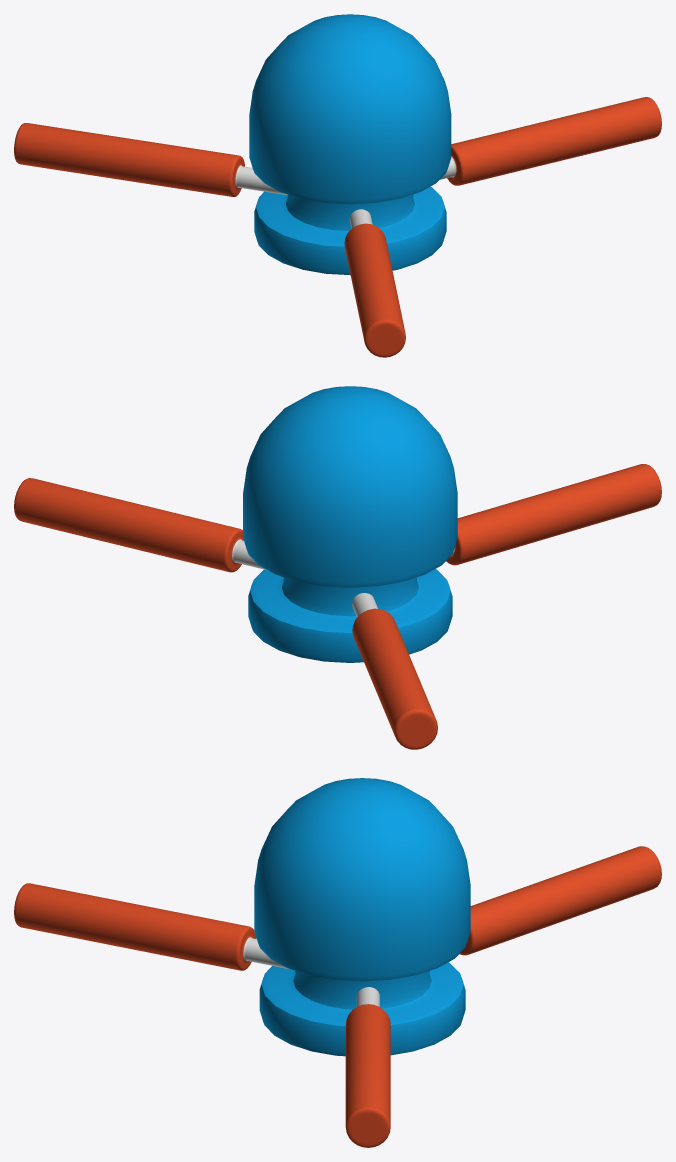
Rendered from Rotary_MESH.fbx.
3 views of the same model, one above another, from view 1: azimuth 30°, elevation 25°; view 2: azimuth 150°, elevation 25°; view 3: azimuth 270°, elevation 25° (orthographic). The views are drawn at different scales.
Parts seen in each view (by area): view 1: Sphere001, Cylinder002; view 2: Sphere001, Cylinder002; view 3: Sphere001, Cylinder002.
Part boxes in pixels (x1,y1,x2,y2): Sphere001: (249, 14, 451, 275); Cylinder002: (14, 97, 661, 357); Sphere001: (243, 386, 457, 662); Cylinder002: (14, 464, 661, 749); Sphere001: (254, 778, 470, 1056); Cylinder002: (14, 846, 661, 1147).
Bounding box in the file's own units: 166 × 65.88 × 170.
